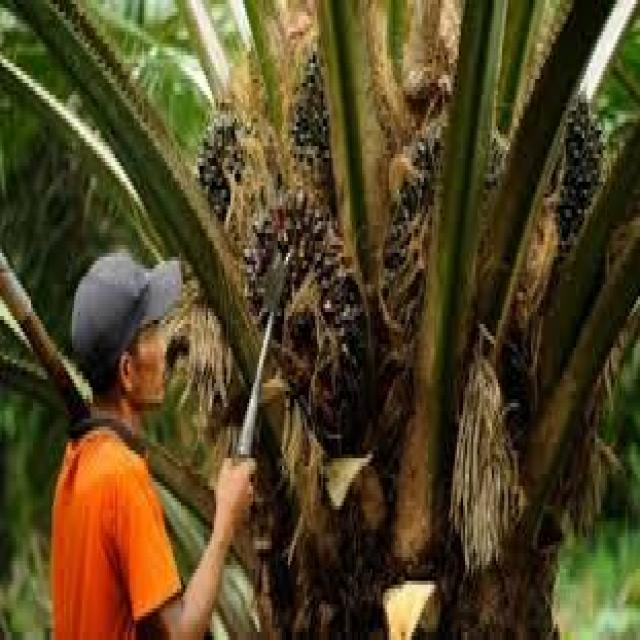FFB: (244, 192, 357, 416), (381, 124, 450, 343), (550, 92, 605, 285), (192, 103, 251, 221)
